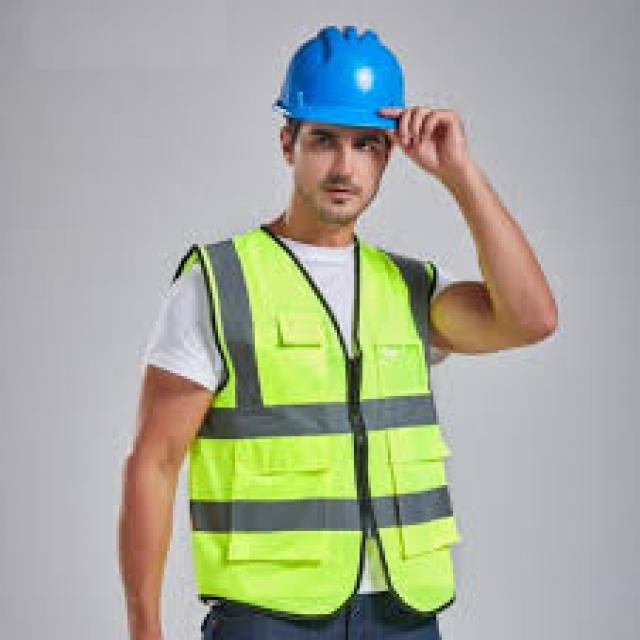Reflective-Jacket: (162, 218, 468, 626)
Safety-Helmet: (266, 20, 419, 138)
